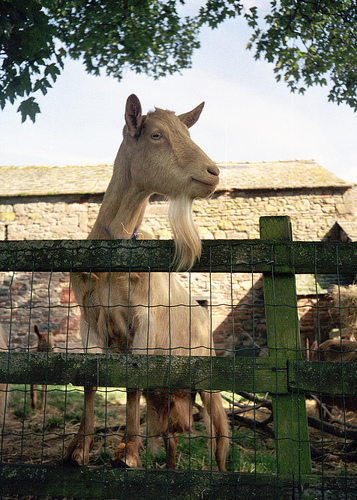goat: (60, 93, 228, 474), (26, 328, 65, 413)
